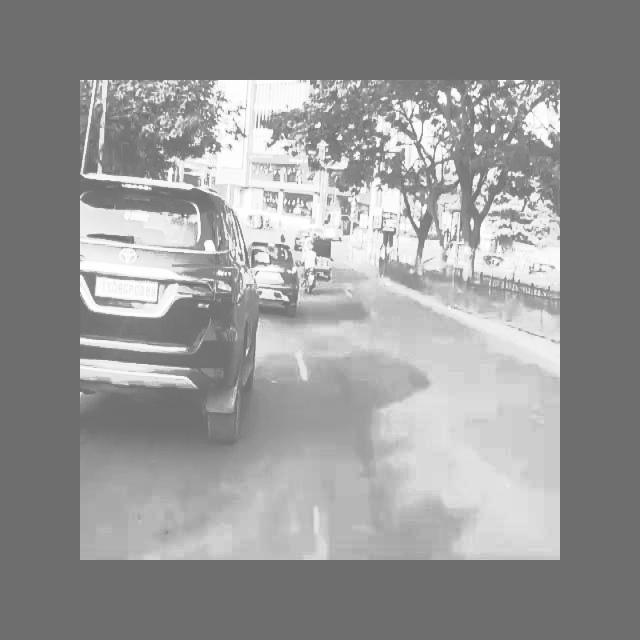Car: (72, 152, 261, 466), (251, 225, 305, 327)
